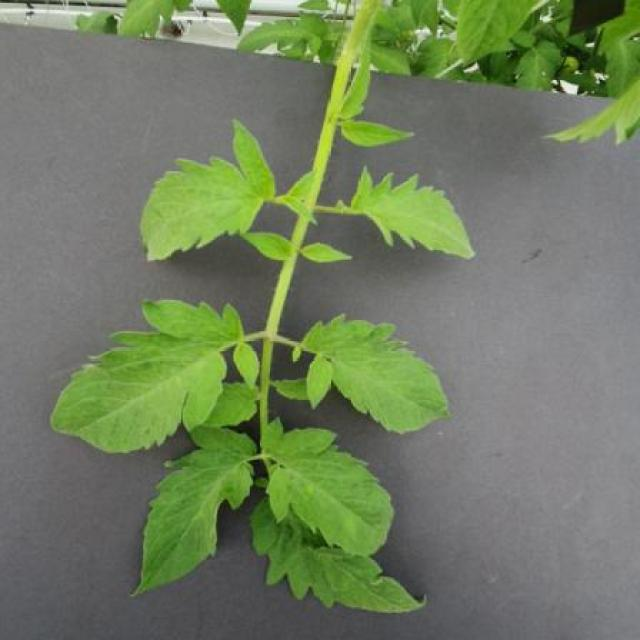Healthy: (50, 298, 260, 453), (248, 497, 428, 622), (130, 426, 259, 600), (138, 118, 275, 263), (259, 414, 394, 557), (301, 312, 456, 435), (349, 164, 478, 260)
